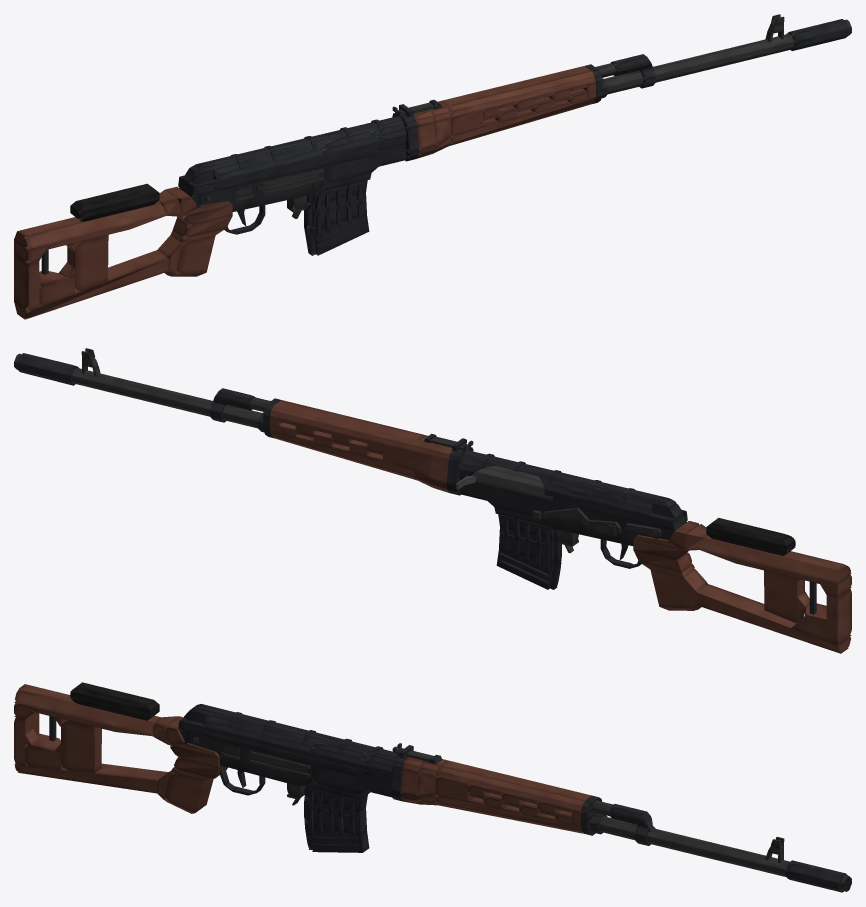
Rendered from svd.obj.
3 views of the same model, one above another, from view 1: azimuth 30°, elevation 25°; view 2: azimuth 150°, elevation 25°; view 3: azimuth 330°, elevation 25° (orthographic).
Visible parts, largest first — view 1: gunModel32, gunModel38, gunModel69, gunModel6, gunModel103, gunModel37, gunModel0, gunModel35, gunModel2, gunModel27, gunModel98, gunModel12 (+14 smaller); view 2: gunModel38, gunModel32, gunModel69, gunModel103, gunModel0, gunModel37, gunModel2, gunModel35, gunModel27, gunModel98, gunModel12, gunModel7 (+15 smaller); view 3: gunModel32, gunModel38, gunModel69, gunModel37, gunModel6, gunModel103, gunModel0, gunModel27, gunModel2, gunModel98, gunModel36, gunModel102 (+20 smaller).
Part boxes in pixels (bbox=[...]): gunModel32: bbox=[14, 201, 166, 249]; gunModel38: bbox=[14, 250, 168, 319]; gunModel69: bbox=[439, 66, 594, 111]; gunModel6: bbox=[191, 141, 380, 196]; gunModel103: bbox=[587, 19, 851, 87]; gunModel37: bbox=[67, 235, 108, 294]; gunModel0: bbox=[196, 169, 312, 211]; gunModel35: bbox=[14, 253, 39, 311]; gunModel2: bbox=[324, 144, 404, 184]; gunModel27: bbox=[175, 235, 215, 274]; gunModel98: bbox=[70, 183, 159, 212]; gunModel12: bbox=[196, 116, 401, 167]; gunModel38: bbox=[697, 584, 850, 653]; gunModel32: bbox=[699, 535, 851, 583]; gunModel69: bbox=[271, 400, 425, 446]; gunModel103: bbox=[14, 353, 261, 421]; gunModel0: bbox=[553, 497, 669, 545]; gunModel37: bbox=[764, 570, 804, 623]; gunModel2: bbox=[469, 481, 541, 516]; gunModel35: bbox=[826, 589, 851, 645]; gunModel27: bbox=[650, 569, 690, 608]; gunModel98: bbox=[707, 517, 795, 546]; gunModel12: bbox=[464, 450, 669, 501]; gunModel7: bbox=[574, 497, 674, 530]; gunModel32: bbox=[14, 684, 160, 736]; gunModel38: bbox=[15, 763, 168, 793]; gunModel69: bbox=[437, 760, 591, 806]; gunModel37: bbox=[61, 719, 101, 772]; gunModel6: bbox=[178, 720, 366, 777]; gunModel103: bbox=[599, 816, 851, 884]; gunModel0: bbox=[186, 720, 302, 786]; gunModel27: bbox=[164, 769, 213, 812]; gunModel2: bbox=[312, 765, 390, 793]; gunModel98: bbox=[70, 682, 159, 710]; gunModel36: bbox=[25, 733, 62, 769]; gunModel102: bbox=[599, 824, 851, 888].
Size of the model in its own units: 37.03 by 5.3 by 2.15.
